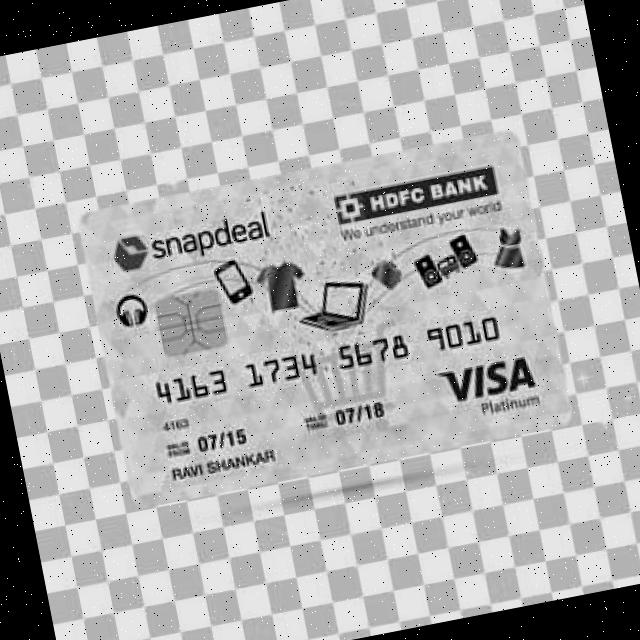card: (68, 124, 574, 507)
